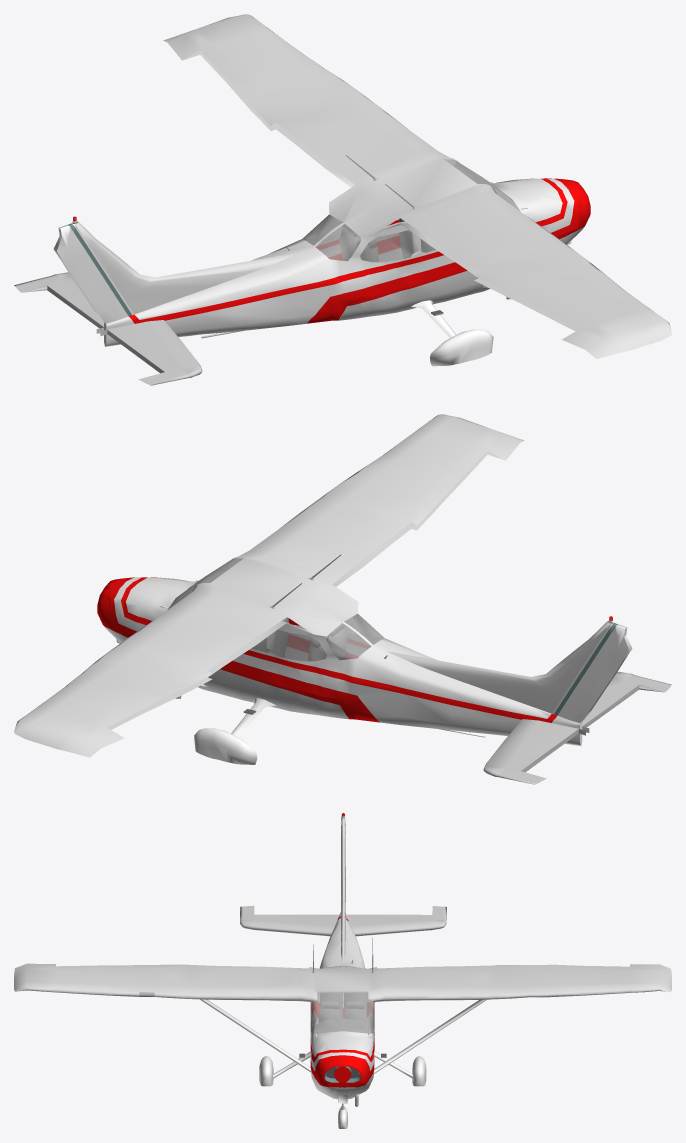
File: body-test-1.dae
3 views of the same model, one above another, from view 1: azimuth 30°, elevation 25°; view 2: azimuth 150°, elevation 25°; view 3: azimuth 270°, elevation 25° (orthographic). The views are drawn at different scales.
Parts seen in each view (by area): view 1: entity_27, entity_36, entity_43, entity_5, entity_40, group_4, entity_42, entity_4, entity_41, entity_48, group_3, group_15 (+1 smaller); view 2: entity_27, entity_36, entity_43, entity_5, entity_40, group_3, entity_42, entity_4, entity_41, group_4, entity_55, group_17 (+1 smaller); view 3: entity_27, group_13, entity_36, group_3, group_4, entity_40, entity_42, entity_5, group_7, entity_67, entity_68.
Boxes of the visible parts, left/top/right/bottom form: entity_27: left=163, top=14, right=671, bottom=358; entity_36: left=134, top=178, right=562, bottom=319; entity_43: left=104, top=178, right=574, bottom=347; entity_5: left=75, top=221, right=299, bottom=314; entity_40: left=307, top=178, right=590, bottom=323; group_4: left=100, top=320, right=202, bottom=385; entity_42: left=338, top=227, right=583, bottom=320; entity_4: left=53, top=225, right=128, bottom=323; entity_41: left=129, top=178, right=567, bottom=323; entity_48: left=430, top=329, right=493, bottom=366; group_3: left=14, top=272, right=103, bottom=333; group_15: left=360, top=230, right=413, bottom=262; entity_27: left=14, top=414, right=524, bottom=757; entity_36: left=126, top=577, right=551, bottom=718; entity_43: left=114, top=577, right=581, bottom=746; entity_5: left=387, top=621, right=610, bottom=713; entity_40: left=97, top=577, right=379, bottom=722; group_3: left=483, top=719, right=585, bottom=784; entity_42: left=104, top=626, right=348, bottom=719; entity_4: left=557, top=624, right=632, bottom=722; entity_41: left=121, top=577, right=556, bottom=722; group_4: left=582, top=671, right=671, bottom=732; entity_55: left=194, top=728, right=257, bottom=764; group_17: left=274, top=630, right=326, bottom=661; entity_27: left=14, top=963, right=671, bottom=1002; group_13: left=310, top=991, right=374, bottom=1033; entity_36: left=310, top=918, right=374, bottom=1057; group_3: left=345, top=906, right=446, bottom=936; group_4: left=240, top=905, right=339, bottom=936; entity_40: left=310, top=1002, right=374, bottom=1087; entity_42: left=311, top=1011, right=374, bottom=1099; entity_5: left=341, top=818, right=345, bottom=963; group_7: left=311, top=1019, right=373, bottom=1033; entity_67: left=374, top=999, right=486, bottom=1073; entity_68: left=200, top=999, right=311, bottom=1072.
Size of the model in its own units: 300 by 434 by 103.
